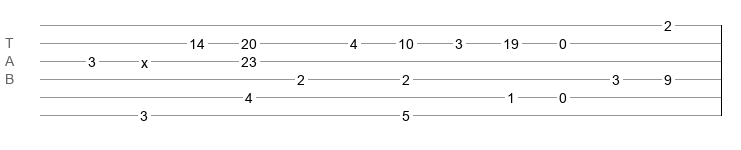0: (559, 36, 567, 46), (559, 90, 567, 100)
1: (507, 90, 515, 100)
10: (398, 36, 414, 46)
14: (189, 36, 205, 46)
19: (503, 36, 519, 46)
2: (297, 72, 305, 82), (402, 72, 410, 82), (664, 18, 672, 28)
20: (241, 36, 257, 46)
23: (241, 54, 257, 64)
3: (88, 54, 96, 64), (140, 108, 148, 118), (455, 36, 463, 46), (612, 72, 620, 82)
4: (245, 90, 253, 100), (350, 36, 358, 46)
5: (402, 108, 410, 118)
9: (664, 72, 672, 82)
x: (141, 55, 148, 63)
